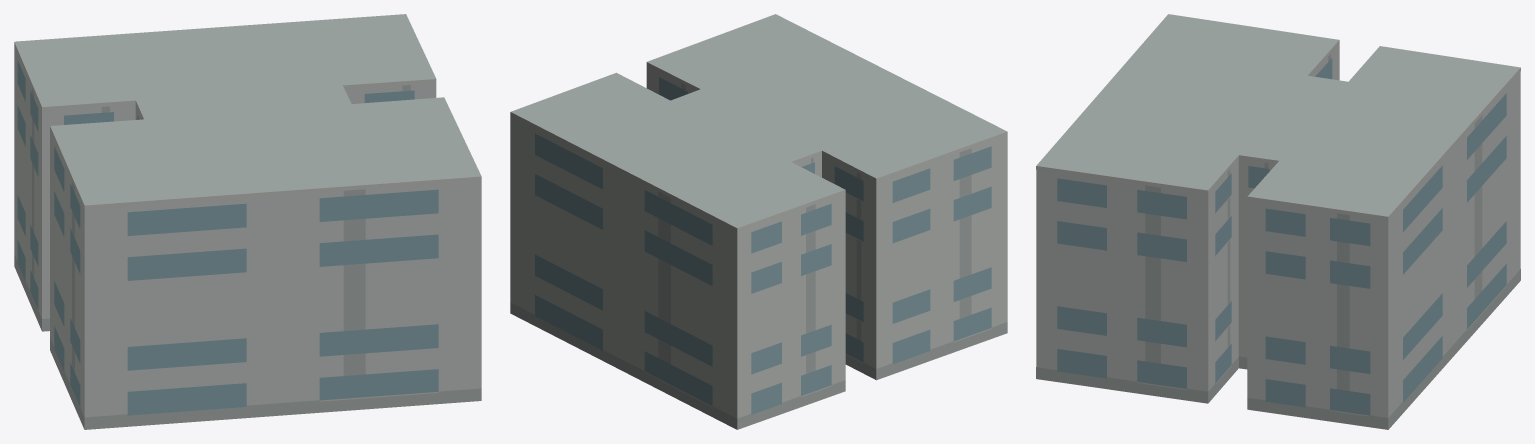
The model's file is survey-upis-32895012.glb.
The picture shows the model from 3 angles, left to right: view 1: azimuth 30°, elevation 25°; view 2: azimuth 150°, elevation 25°; view 3: azimuth 270°, elevation 25°; orthographic projection. The views are drawn at different scales.
Parts seen in each view (by area): view 1: survey-upis-32895012.tmp; view 2: survey-upis-32895012.tmp; view 3: survey-upis-32895012.tmp.
Boxes of the visible parts, left/top/right/bottom form: survey-upis-32895012.tmp: left=14, top=14, right=481, bottom=429; survey-upis-32895012.tmp: left=510, top=14, right=1007, bottom=429; survey-upis-32895012.tmp: left=1036, top=14, right=1520, bottom=429.
Size of the model in its own units: 27.04 by 13.25 by 27.31.
